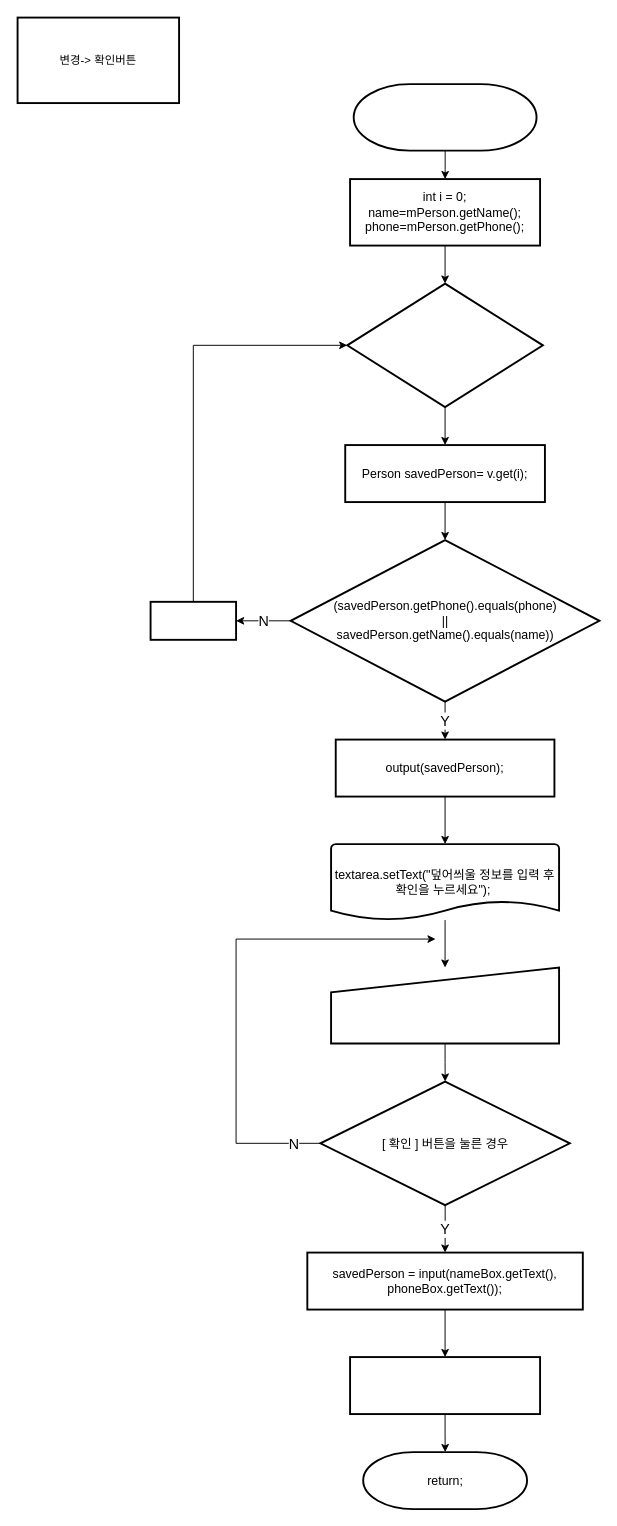
Some shapes in this 617 by 1526 pixel diagram are drawn without their labels. The shapes that lost their labels are listed below. From the top down, each one's centre as x and y in pixels, then its label:
the point at 444,117: +modify(Person mPerson): void
the point at 444,345: i< v.size();
the point at 193,620: i++
the point at 445,1005: nameBox 에 이름 입력 phoneBox 에 번호 입력
the point at 445,1385: v.set(i,savedPerson);
